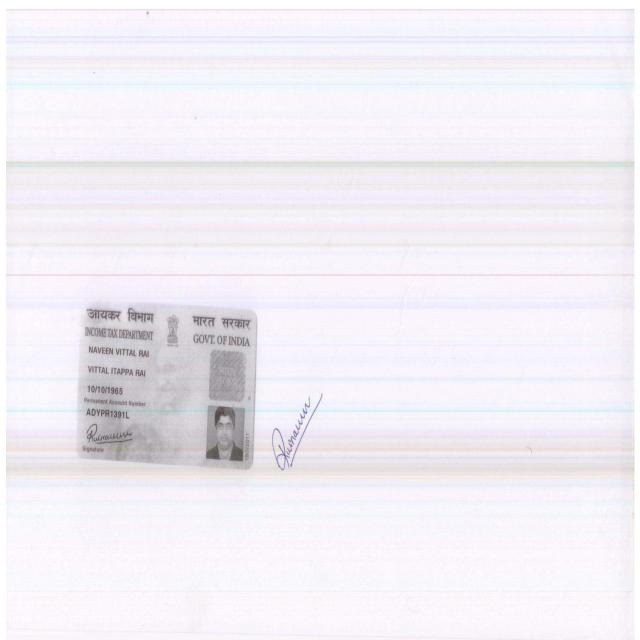pan_card: (75, 297, 257, 467)
